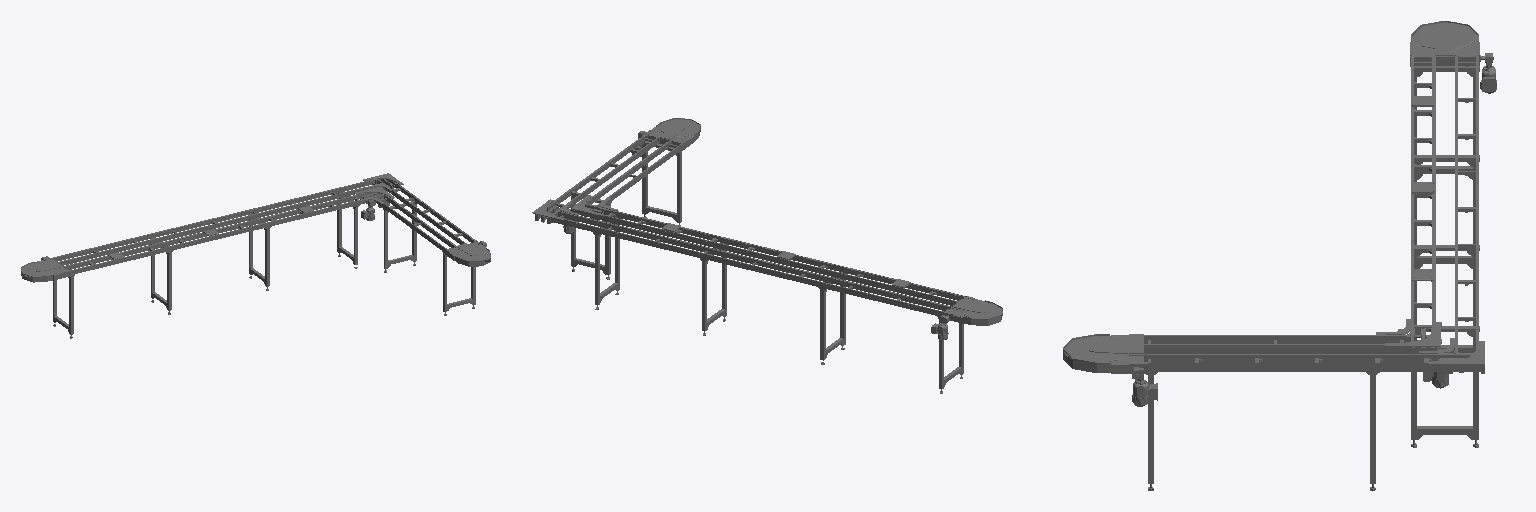
The robot description file, URDF, robot "conveyor":
<?xml version="1.0" ?>
<!-- =================================================================================== -->
<!-- |    This document was autogenerated by xacro from conveyor.xacro                 | -->
<!-- |    EDITING THIS FILE BY HAND IS NOT RECOMMENDED                                 | -->
<!-- =================================================================================== -->
<robot name="conveyor" xmlns:xacro="http://www.ros.org/wiki/xacro">
  <link name="world"/>
  <joint name="world_conveyor_joint" type="fixed">
    <origin rpy="0 0 0" xyz="0 0 0"/>
    <parent link="world"/>
    <child link="conveyor_system_link"/>
  </joint>
  <!-- BASE LINK -->
  <link name="conveyor_system_link">
    <inertial>
      <mass value="80"/>
      <origin xyz="0 0 -0.5"/>
      <inertia ixx="1" ixy="0.0" ixz="0.0" iyy="1" iyz="0.0" izz="1"/>
    </inertial>
    <visual>
      <!--origin rpy="0 0 0" xyz="0.0 0 -${0.99613/2}"/-->
      <origin rpy="0 0 0" xyz="0.0 0 0"/>
      <geometry>
        <mesh filename="package://robots_ee_pkg/meshes/conveyor/visual/bandumlaufsystem.dae"/>
      </geometry>
      <material name="grey">
        <color rgba="0.5 0.5 0.5 1"/>
      </material>
    </visual>
    <collision>
      <origin rpy="0 0 0" xyz="0.0 0 0"/>
      <geometry>
        <mesh filename="package://robots_ee_pkg/meshes/conveyor/collision/bandumlaufsystem.stl"/>
      </geometry>
    </collision>
  </link>
  <!--gazebo reference="${robot_arm_name}_table_base">
      <material>Gazebo/Silver</material>
      <turnGravityOff>false</turnGravityOff>
      <mu1>0.5</mu1>
      <mu2>0.4</mu2>
    </gazebo -->
</robot>

--- Facts derived from the render (not from the file) ---
Views: 3 orthographic renders of the robot side by side, from view 1: azimuth 30°, elevation 25°; view 2: azimuth 150°, elevation 25°; view 3: azimuth 270°, elevation 25°.
Robot: conveyor — 2 links, 1 joints (1 fixed); root link world; default pose: every joint at zero.
Links seen in each view (by area): view 1: conveyor_system_link; view 2: conveyor_system_link; view 3: conveyor_system_link.
Boxes of the visible links, x1,y1,x2,y2 form: conveyor_system_link: (21, 173, 490, 338); conveyor_system_link: (532, 118, 1002, 393); conveyor_system_link: (1063, 21, 1496, 490).
Bounding box of the posed robot: 5884 × 3089 × 1016 m (x, y, z).
1 mesh visuals loaded from 1 distinct referenced files (1 Collada DAE).
